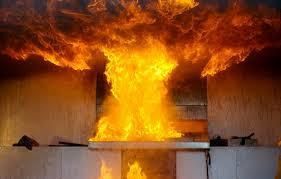fire: (52, 0, 236, 145)
